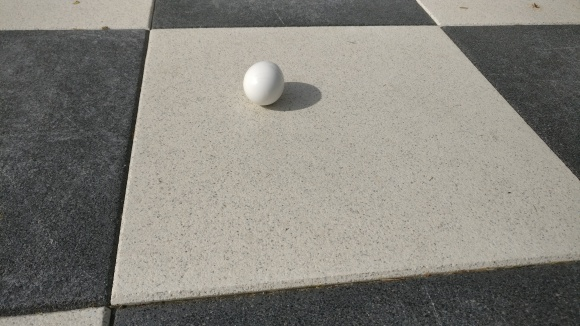egg: (242, 60, 285, 106)
